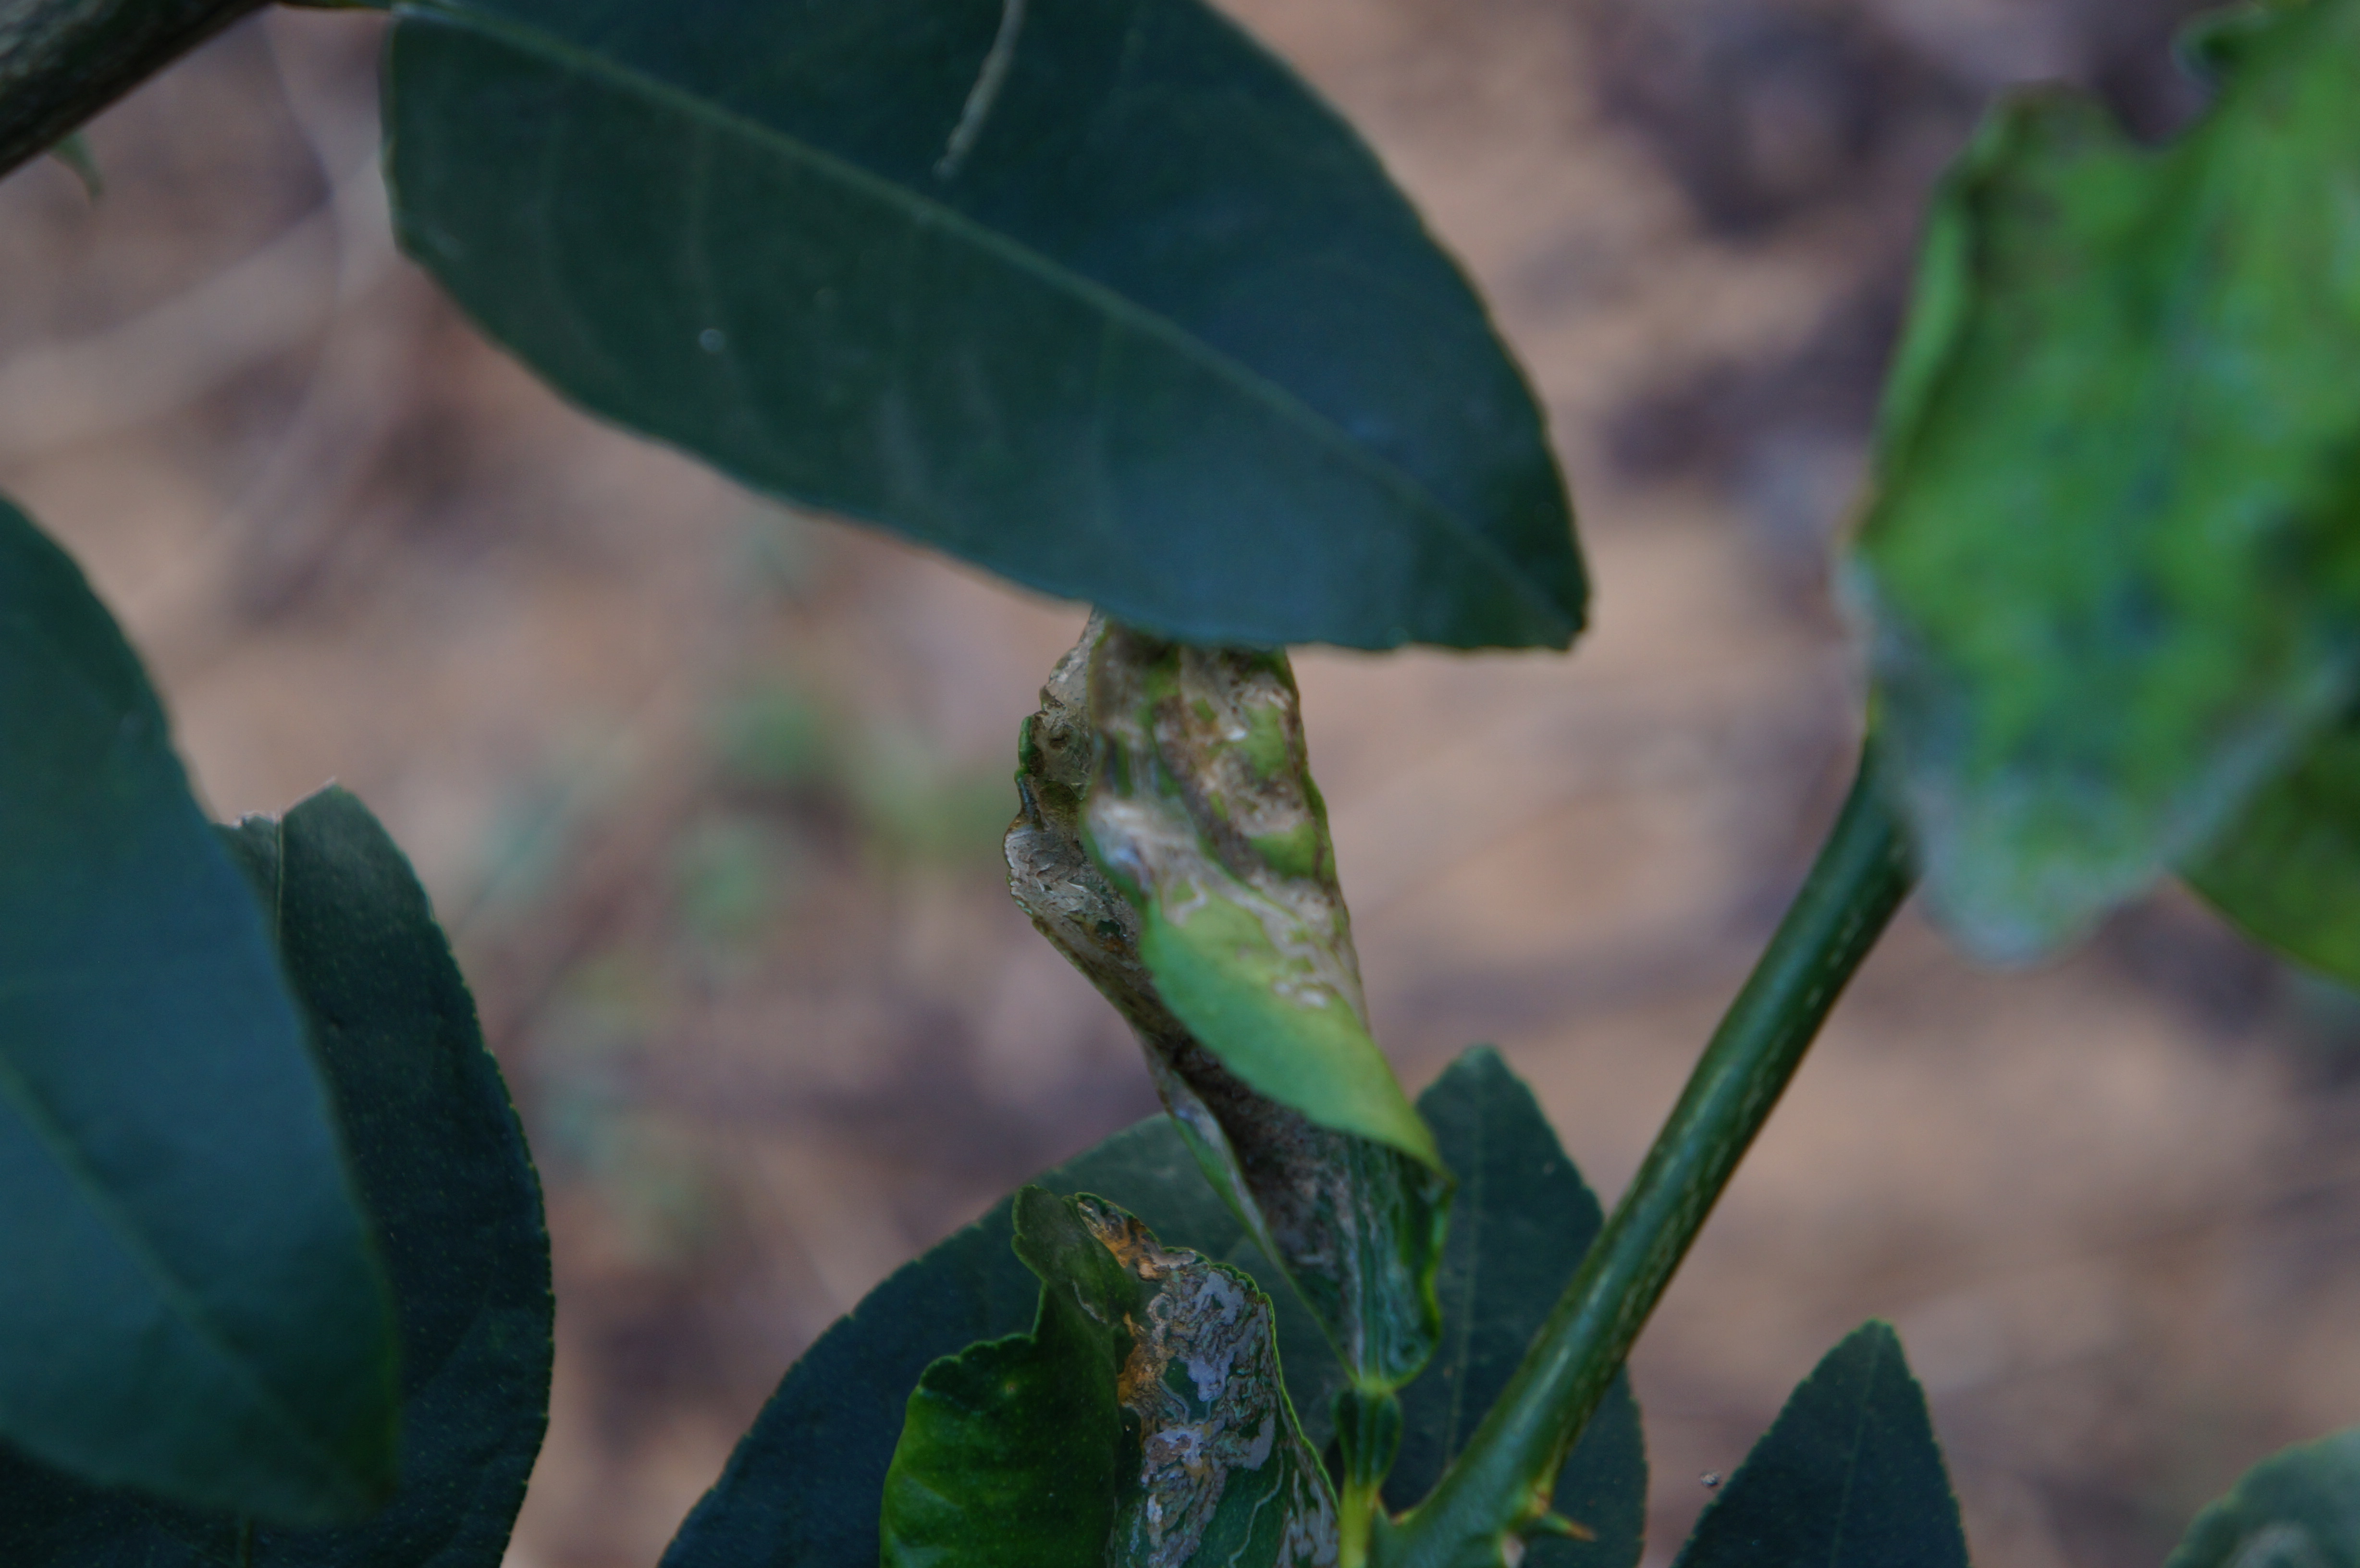curly: (988, 581, 1461, 1395)
damage: (995, 586, 1377, 1025), (1062, 1193, 1358, 1568)
